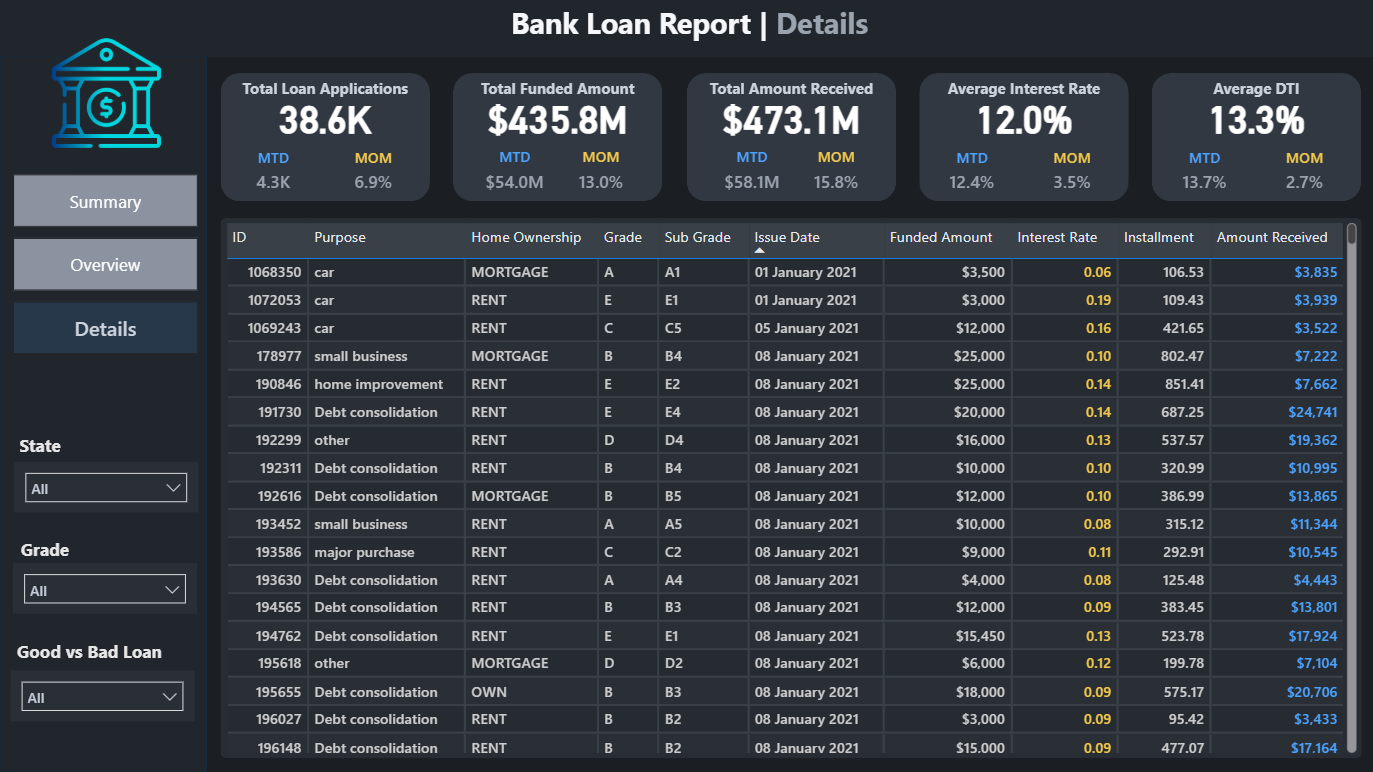

Layout of this report page (visuals, bound fields, positions):
{"tool":"powerbi","page":{"name":"Details","canvas":[1280,720],"ordinal":2},"visuals":[{"type":"shape","box":[0,0,1280.3,55],"z":0},{"type":"shape","box":[207.2,70,194.9,119.4],"z":0,"group":"g1"},{"type":"shape","box":[423.7,70,194.9,119.4],"z":0,"group":"g3"},{"type":"shape","box":[640.1,70,194.9,119.4],"z":0,"group":"g2"},{"type":"shape","box":[856.6,70,194.9,119.4],"z":0,"group":"g5"},{"type":"shape","box":[1073.1,70,194.9,119.4],"z":0,"group":"g4"},{"type":"shape","box":[2.8,54.2,191.7,665.3],"z":1000},{"type":"card","fields":{"Values":["bank_loan_data.total_loan_application"]},"box":[207.2,87.8,194.9,46.7],"z":1000,"group":"g1"},{"type":"card","fields":{"Values":["bank_loan_data.total_funded_amount"]},"box":[423.7,87.8,194.9,46.7],"z":1000,"group":"g3"},{"type":"card","fields":{"Values":["bank_loan_data.total_amount_received"]},"box":[640.1,87.8,194.9,46.7],"z":1000,"group":"g2"},{"type":"card","fields":{"Values":["bank_loan_data.average_interest_rate"]},"box":[856.6,87.8,194.9,46.7],"z":1000,"group":"g5"},{"type":"card","fields":{"Values":["bank_loan_data.average_dti"]},"box":[1073.1,87.8,194.9,46.7],"z":1000,"group":"g4"},{"type":"textbox","box":[439.1,0,407.5,54.9],"z":2000},{"type":"textbox","box":[207.2,70,194.9,35.7],"z":2000,"group":"g1"},{"type":"textbox","box":[423.7,70,194.9,35.7],"z":2000,"group":"g3"},{"type":"textbox","box":[640.1,70,194.9,35.7],"z":2000,"group":"g2"},{"type":"textbox","box":[856.6,70,194.9,35.7],"z":2000,"group":"g5"},{"type":"textbox","box":[1073.1,70,194.9,35.7],"z":2000,"group":"g4"},{"type":"card","title":"MTD","fields":{"Values":["bank_loan_data.MTD_funded_ampount"]},"box":[446.7,138.6,68.6,50.8],"z":3000,"group":"g3"},{"type":"card","title":"MTD","fields":{"Values":["bank_loan_data.MTD_amount_received"]},"box":[668.3,138.6,65.9,50.8],"z":3000,"group":"g2"},{"type":"card","title":"MTD","fields":{"Values":["bank_loan_data.MTD_loan_applications"]},"box":[230.5,140,52.1,49.4],"z":3000,"group":"g1"},{"type":"card","title":"MTD","fields":{"Values":["bank_loan_data.MTD_average_interest_rate"]},"box":[879.9,140,52.1,49.4],"z":3000,"group":"g5"},{"type":"card","title":"MTD","fields":{"Values":["bank_loan_data.MTD_average_dti"]},"box":[1096.4,140,52.1,49.4],"z":3000,"group":"g4"},{"type":"card","title":"MOM","fields":{"Values":["bank_loan_data.MOM_funded_amount"]},"box":[530.4,138.6,61.7,50.8],"z":4000,"group":"g3"},{"type":"card","title":"MOM","fields":{"Values":["bank_loan_data.MOM_amount_received"]},"box":[746.5,138.6,64.5,50.8],"z":4000,"group":"g2"},{"type":"card","title":"MOM","fields":{"Values":["bank_loan_data.MOM_loan_applications"]},"box":[323.8,140,52.1,49.4],"z":4000,"group":"g1"},{"type":"card","title":"MOM","fields":{"Values":["bank_loan_data.MOM_average_interest_rate"]},"box":[973.2,140,52.1,49.4],"z":4000,"group":"g5"},{"type":"card","title":"MOM","fields":{"Values":["bank_loan_data.MOM_average_dti"]},"box":[1189.7,140,52.1,49.4],"z":4000,"group":"g4"},{"type":"slicer","fields":{"Values":["bank_loan_data.address_state"]},"box":[15.6,431.8,170.8,47.2],"z":8000},{"type":"slicer","fields":{"Values":["bank_loan_data.grade"]},"box":[14.1,525.9,170.8,47.2],"z":9000},{"type":"textbox","box":[16,497.1,84.7,36.1],"z":10000},{"type":"slicer","fields":{"Values":["bank_loan_data.good_vs_bad_loans"]},"box":[11.4,625.3,170.8,47.2],"z":11000},{"type":"textbox","box":[12.8,592.3,169.8,36],"z":12000},{"type":"textbox","box":[15.6,399.8,84.7,36.1],"z":13000},{"type":"shape","box":[207,204.7,1061.6,502.3],"z":14000},{"type":"tableEx","fields":{"Values":["bank_loan_data.id","bank_loan_data.purpose","bank_loan_data.home_ownership","bank_loan_data.grade","bank_loan_data.sub_grade","bank_loan_data.issue_date","bank_loan_data.Total Funded Amount","Sum(bank_loan_data.int_rate)","Sum(bank_loan_data.installment)","bank_loan_data.Total Amount Received"]},"box":[207,204.7,1061.6,502.3],"z":15000},{"type":"image","box":[37.2,25.6,126.7,125.6],"z":17000},{"type":"pageNavigator","box":[14,164,172.1,167.4],"z":17001},{"type":"group","id":"g1","title":"Group 1","box":[207.2,70,194.9,119.4],"z":17002},{"type":"group","id":"g2","title":"Group 1","box":[640.1,70,194.9,119.4],"z":17003},{"type":"group","id":"g3","title":"Group 1","box":[423.7,70,194.9,119.4],"z":17004},{"type":"group","id":"g4","title":"Group 1","box":[1073.1,70,194.9,119.4],"z":17005},{"type":"group","id":"g5","title":"Group 1","box":[856.6,70,194.9,119.4],"z":17006}]}

Visuals, with their boxes in screenshot pixels (x1, y1, x2, y2), scaled from the page's 1280x720 canvas onto the 1373x772 screenshot:
shape: region(0, 0, 1372, 59)
shape: region(222, 75, 431, 203)
shape: region(454, 75, 664, 203)
shape: region(687, 75, 896, 203)
shape: region(919, 75, 1128, 203)
shape: region(1151, 75, 1360, 203)
shape: region(3, 58, 209, 771)
card - bank_loan_data.total_loan_application: region(222, 94, 431, 144)
card - bank_loan_data.total_funded_amount: region(454, 94, 664, 144)
card - bank_loan_data.total_amount_received: region(687, 94, 896, 144)
card - bank_loan_data.average_interest_rate: region(919, 94, 1128, 144)
card - bank_loan_data.average_dti: region(1151, 94, 1360, 144)
textbox: region(471, 0, 908, 59)
textbox: region(222, 75, 431, 113)
textbox: region(454, 75, 664, 113)
textbox: region(687, 75, 896, 113)
textbox: region(919, 75, 1128, 113)
textbox: region(1151, 75, 1360, 113)
"MTD" card: region(479, 149, 553, 203)
"MTD" card: region(717, 149, 788, 203)
"MTD" card: region(247, 150, 303, 203)
"MTD" card: region(944, 150, 1000, 203)
"MTD" card: region(1176, 150, 1232, 203)
"MOM" card: region(569, 149, 635, 203)
"MOM" card: region(801, 149, 870, 203)
"MOM" card: region(347, 150, 403, 203)
"MOM" card: region(1044, 150, 1100, 203)
"MOM" card: region(1276, 150, 1332, 203)
slicer - bank_loan_data.address_state: region(17, 463, 200, 514)
slicer - bank_loan_data.grade: region(15, 564, 198, 614)
textbox: region(17, 533, 108, 572)
slicer - bank_loan_data.good_vs_bad_loans: region(12, 670, 195, 721)
textbox: region(14, 635, 196, 674)
textbox: region(17, 429, 108, 467)
shape: region(222, 219, 1361, 758)
tableEx - bank_loan_data.id x bank_loan_data.purpose: region(222, 219, 1361, 758)
image: region(40, 27, 176, 162)
pageNavigator: region(15, 176, 200, 355)
"Group 1" group: region(222, 75, 431, 203)
"Group 1" group: region(687, 75, 896, 203)
"Group 1" group: region(454, 75, 664, 203)
"Group 1" group: region(1151, 75, 1360, 203)
"Group 1" group: region(919, 75, 1128, 203)
